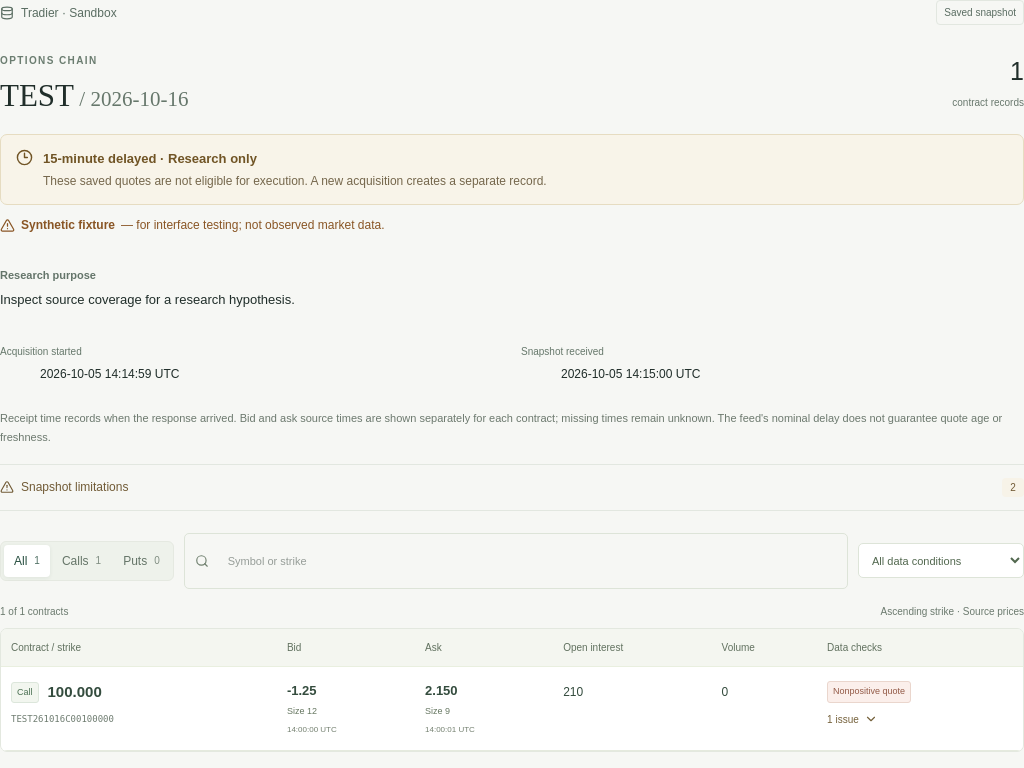
Test: saved options-chain inspector › retains a flagged negative quote as an observation rather than treating it as missing
Expected: the text "-1.25" is shown, [287,683,316,698]
Expected: the text "Nonpositive quote" is shown, [827,681,911,702]
Click the button "1 issue" at (852, 719), box [827,708,878,730]
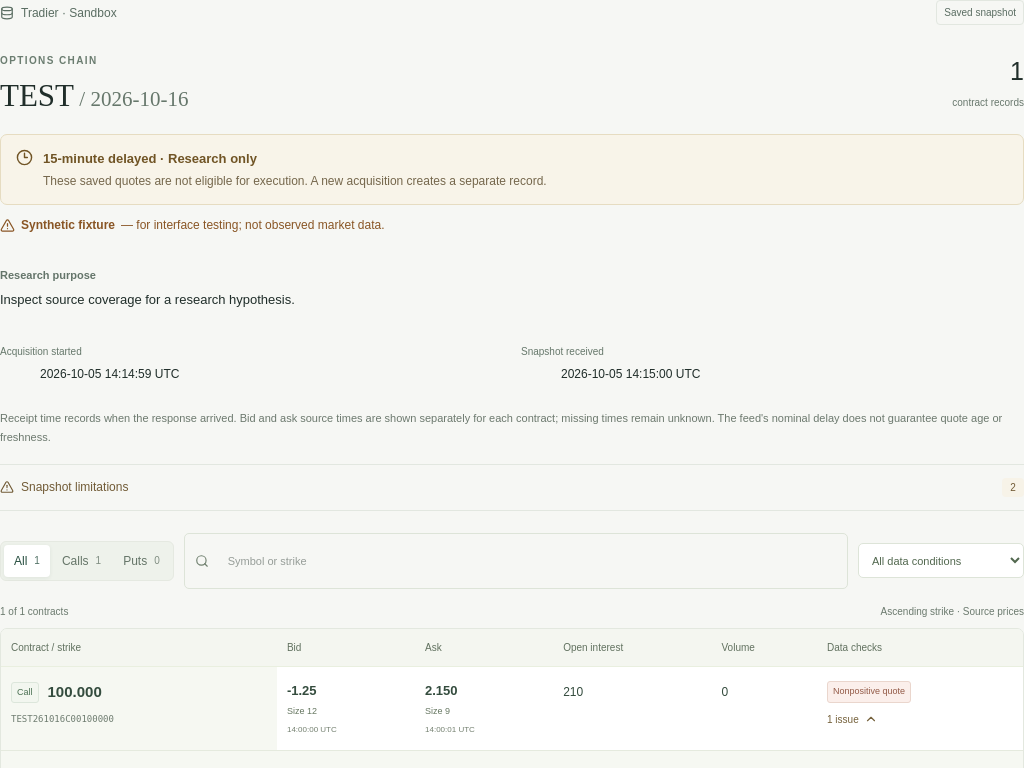
Select "Missing bid or ask" in the dropdown named "Filter data issues" at (941, 561), box [858,543,1023,578]
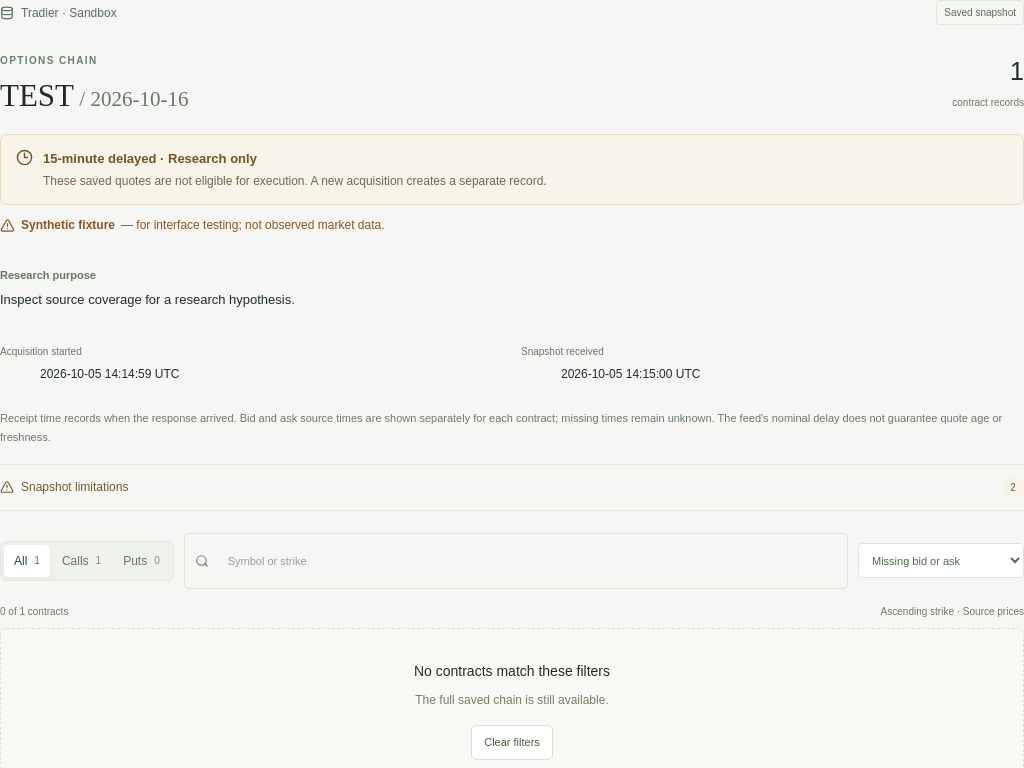
Now the heading "No contracts match these filters" is shown, box [414,663,610,679]
